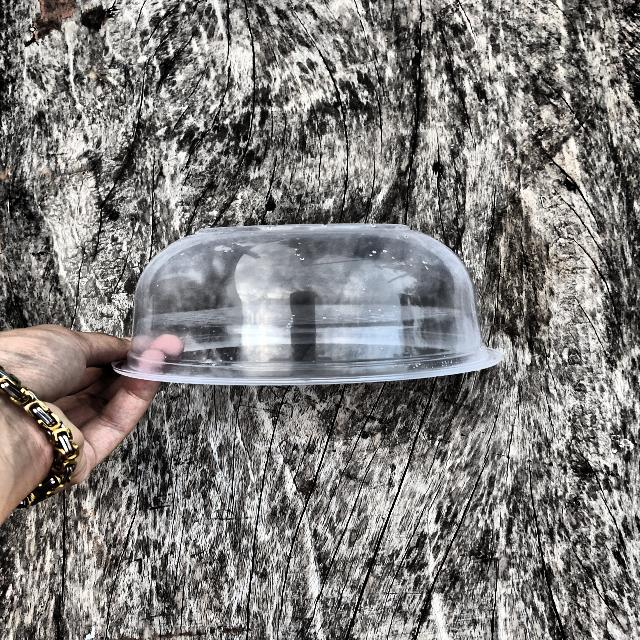plastic container: (86, 186, 528, 408)
